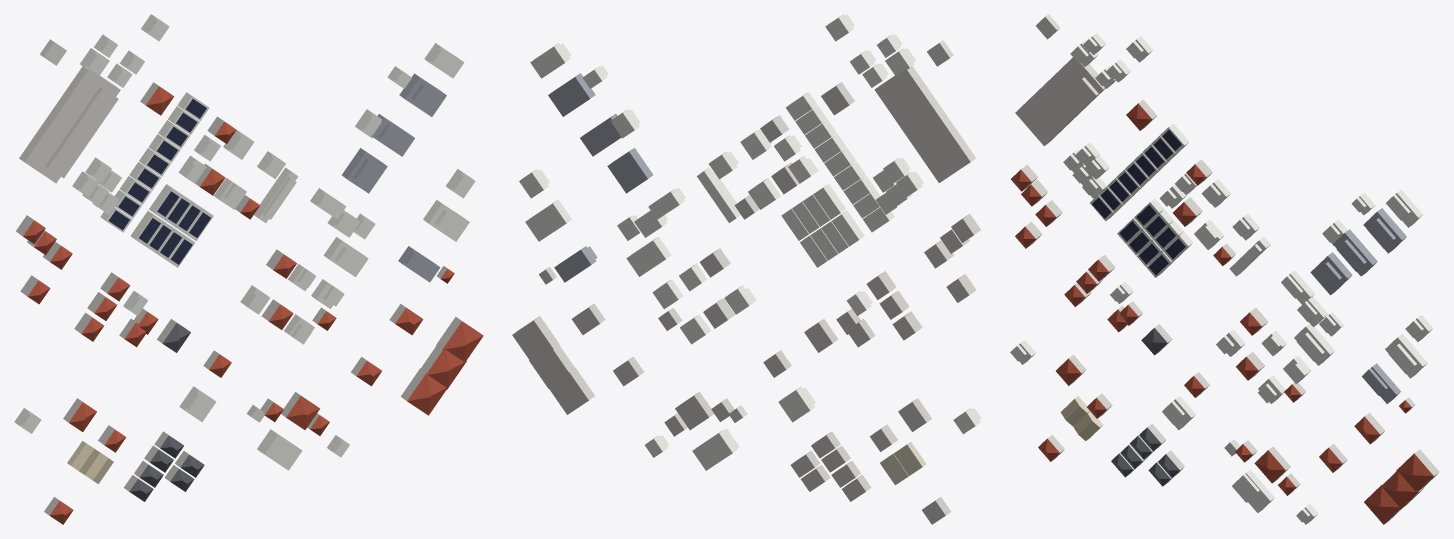
Rendered from thermi_thess.obj.
3 views of the same model, side by side, from view 1: azimuth 30°, elevation 25°; view 2: azimuth 150°, elevation 25°; view 3: azimuth 330°, elevation 25° (orthographic). The views are drawn at different scales.
Size of the model in its own units: 338 by 338 by 12.
